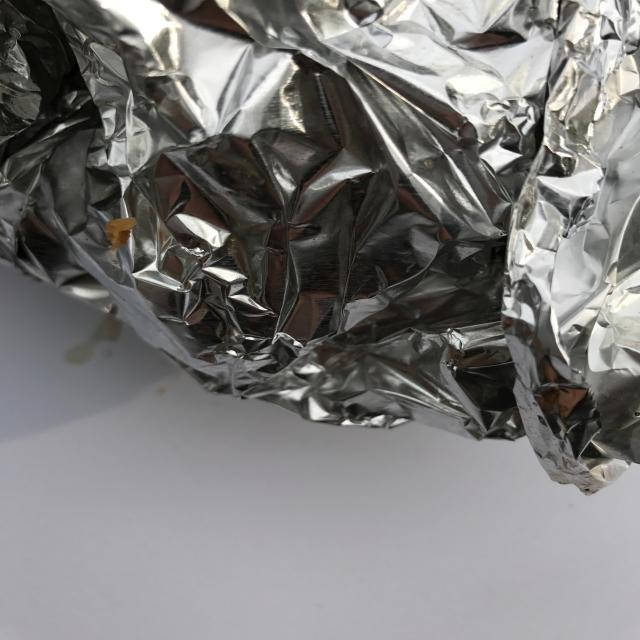metal: (1, 1, 640, 494)
